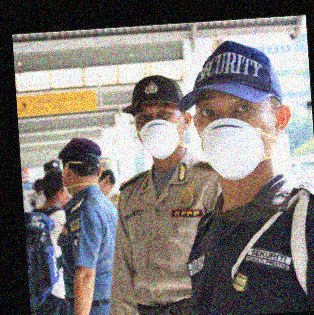with_mask: (196, 90, 276, 181), (134, 103, 184, 160)
